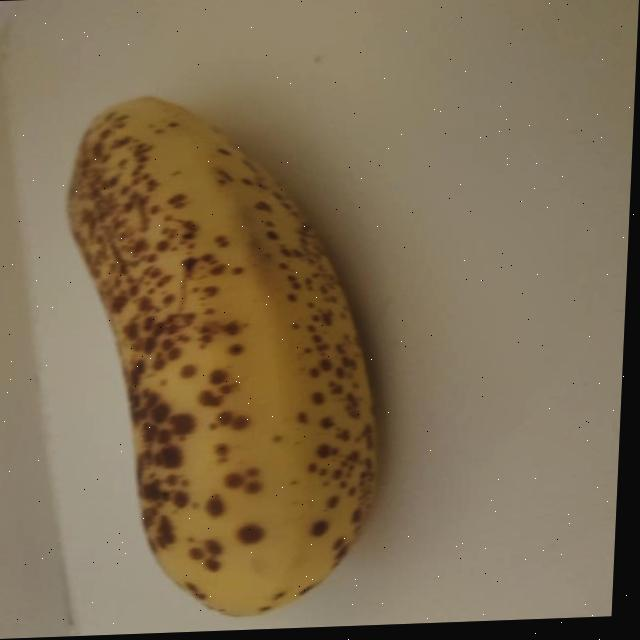banana: (40, 84, 390, 626)
